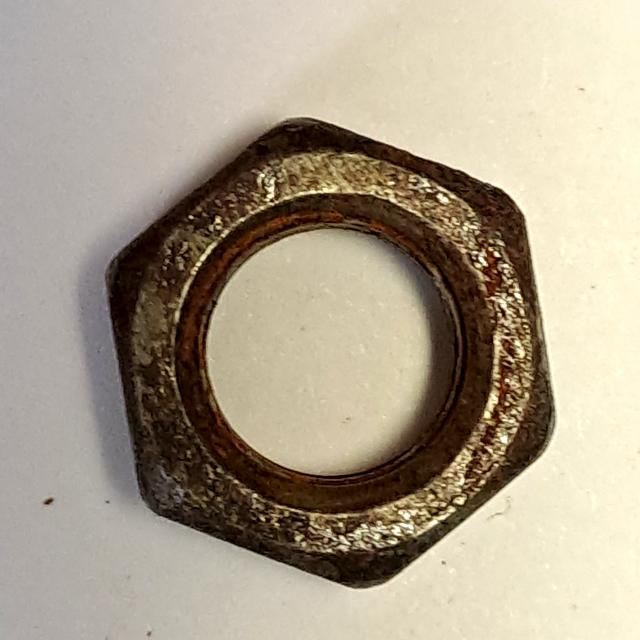Rust: (94, 98, 567, 612)
